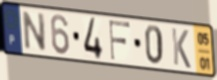0: (143, 24, 164, 67)
4: (82, 16, 105, 62)
6: (49, 13, 71, 56)
F: (108, 20, 132, 63)
K: (170, 26, 193, 71)
N: (22, 10, 48, 53)
